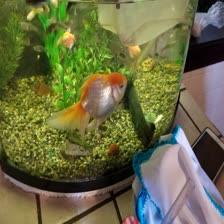Cuezo: (48, 66, 132, 135)
Guppy: (43, 13, 67, 40)
Plano: (57, 31, 78, 49)
